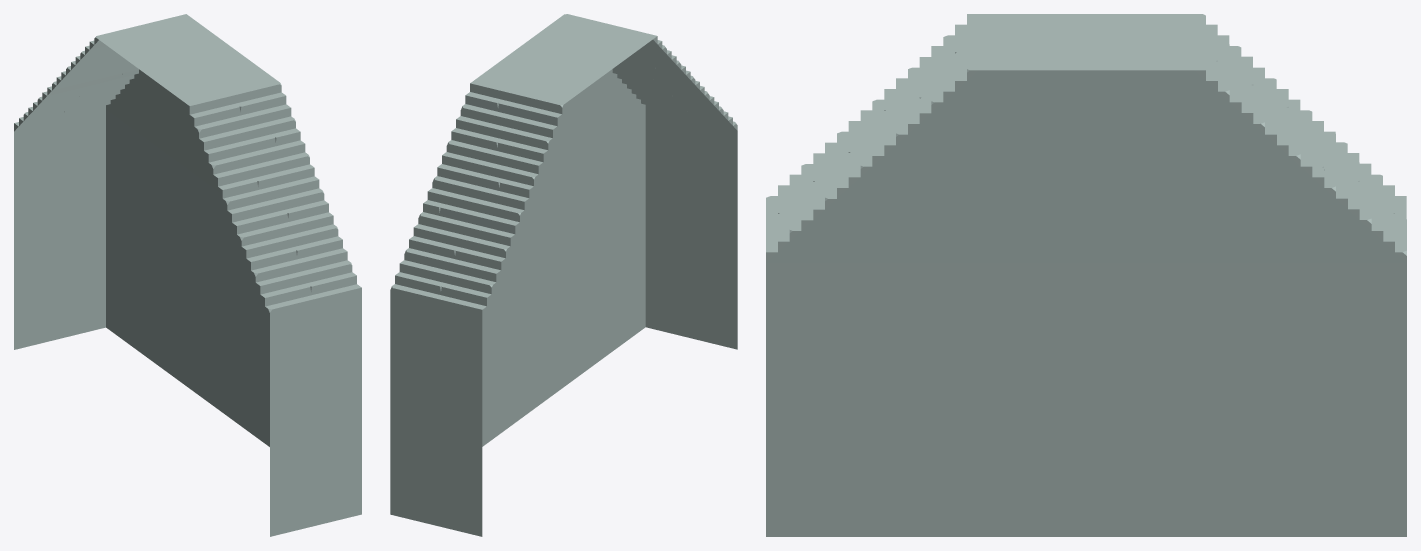
The model's file is Shop_staircase.fbx.
The picture shows the model from 3 angles, left to right: view 1: azimuth 30°, elevation 25°; view 2: azimuth 150°, elevation 25°; view 3: azimuth 270°, elevation 25°; orthographic projection. The views are drawn at different scales.
Visible parts, largest first — view 1: Shop_staircase; view 2: Shop_staircase; view 3: Shop_staircase.
Part boxes in pixels (left/top/right/bottom): Shop_staircase: left=14, top=14, right=361, bottom=536; Shop_staircase: left=390, top=14, right=737, bottom=536; Shop_staircase: left=766, top=14, right=1406, bottom=536.
Bounding box in the file's own units: 957 × 200 × 769.
